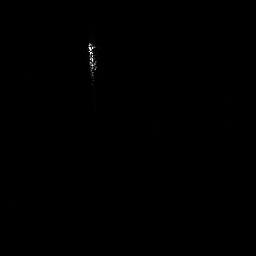ship: (87, 40, 99, 83)
